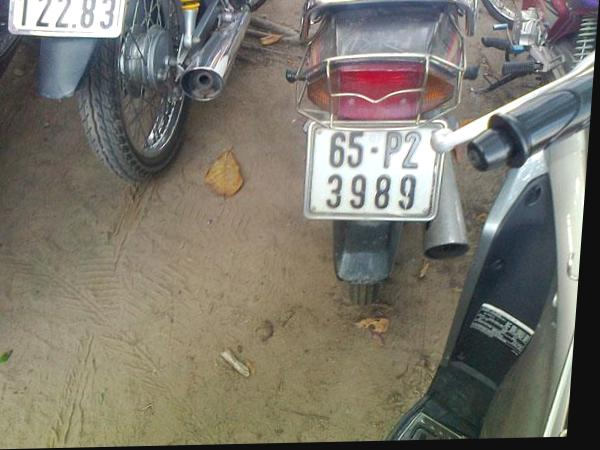License_Plate: (308, 121, 449, 229)
